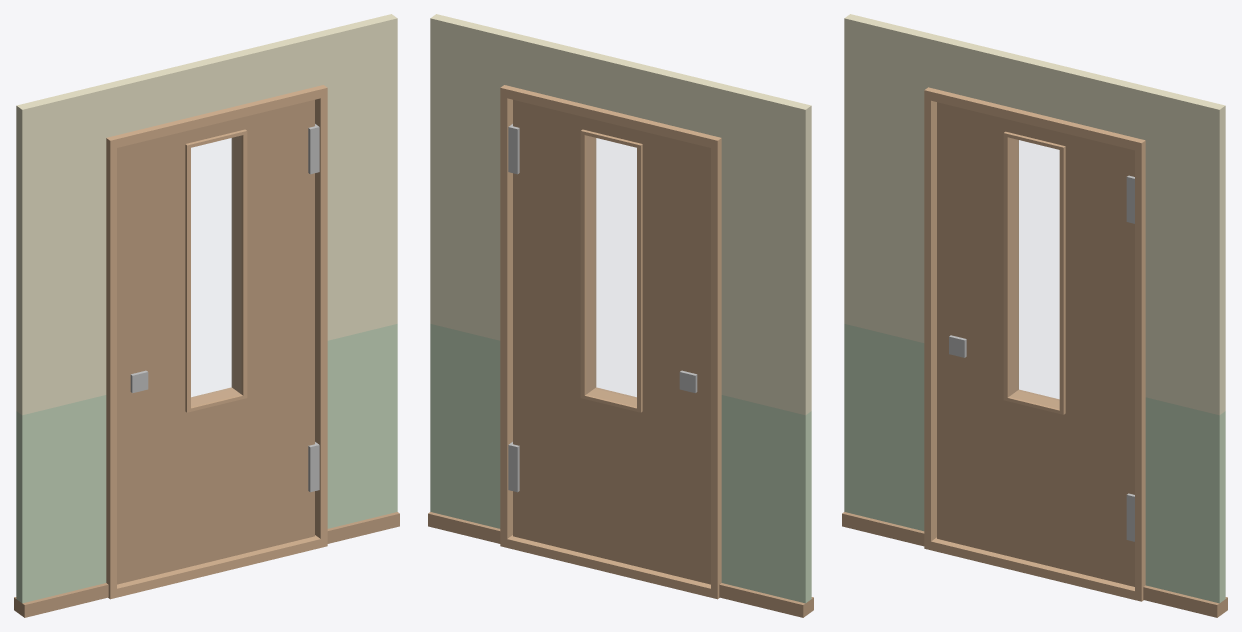
File: door_2.fbx
3 views of the same model, side by side, from view 1: azimuth 30°, elevation 25°; view 2: azimuth 150°, elevation 25°; view 3: azimuth 330°, elevation 25° (orthographic).
Visible parts, largest first — view 1: Boole_2, Cube_12; view 2: Boole_2, Cube_12; view 3: Boole_2, Cube_12.
Part boxes in pixels (left/top/right/bottom): Boole_2: left=14, top=14, right=399, bottom=617; Cube_12: left=117, top=99, right=319, bottom=584; Boole_2: left=428, top=14, right=813, bottom=617; Cube_12: left=508, top=99, right=710, bottom=584; Boole_2: left=842, top=14, right=1227, bottom=617; Cube_12: left=937, top=102, right=1134, bottom=586.
Size of the model in its own units: 69.25 by 89.41 by 4.42.
